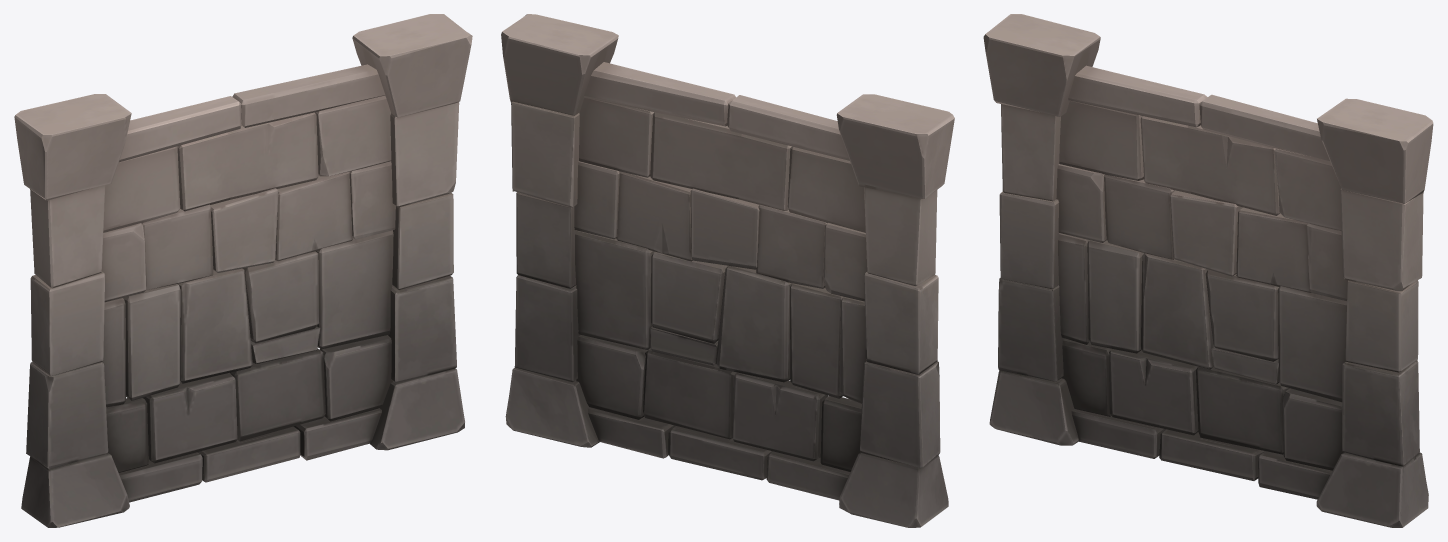
The model's file is wall.glb.
The picture shows the model from 3 angles, left to right: view 1: azimuth 30°, elevation 25°; view 2: azimuth 150°, elevation 25°; view 3: azimuth 330°, elevation 25°; orthographic projection.
Visible parts, largest first — view 1: Cube.003__0; view 2: Cube.003__0; view 3: Cube.003__0.
Part boxes in pixels (x1=…): Cube.003__0: x1=14, y1=14, x2=472, y2=527; Cube.003__0: x1=501, y1=14, x2=954, y2=527; Cube.003__0: x1=983, y1=14, x2=1433, y2=527.
Size of the model in its own units: 1.13 by 1 by 0.15.
Materials: 1 (1 with a texture image).
